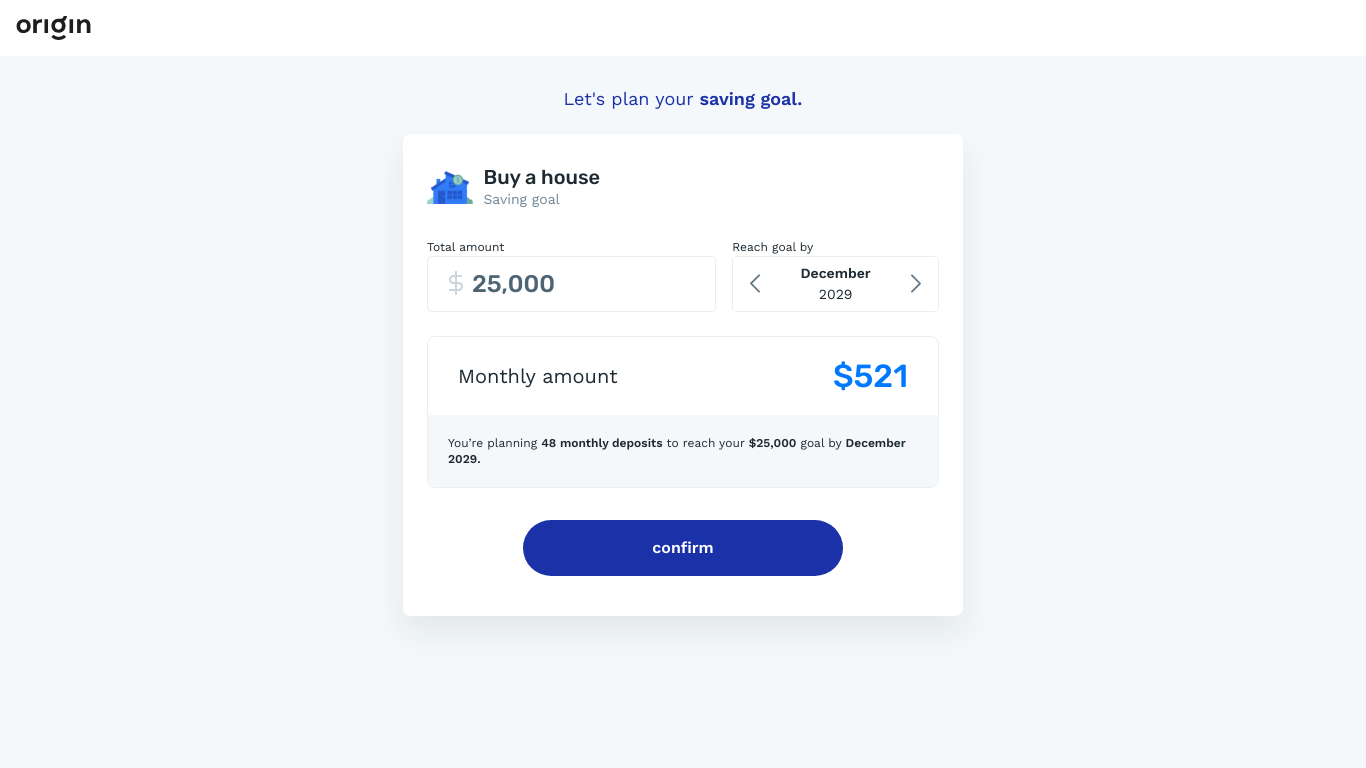
Home Buy a house › Calculate correct value when input change › Should calculte correct value when type 30,000
Replace the text in the field with test id "input-total-amount" with "30000" at (572, 284), box top-left (427, 256), bottom-right (716, 312)
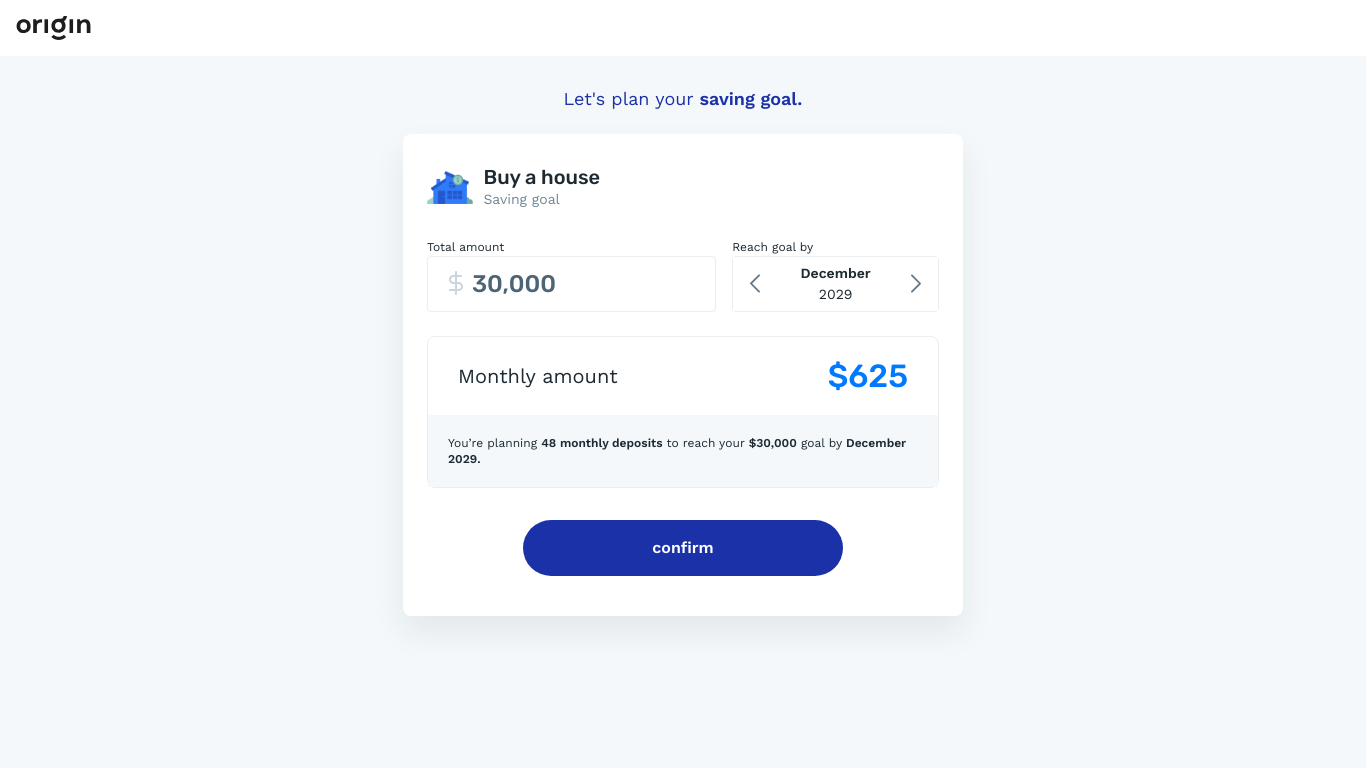
Result: the text with test id "monthly-amount" reads "$625" at top-left (828, 357), bottom-right (908, 395)
Result: the text with test id "goal-value" reads "$30,000" at top-left (749, 436), bottom-right (797, 450)
